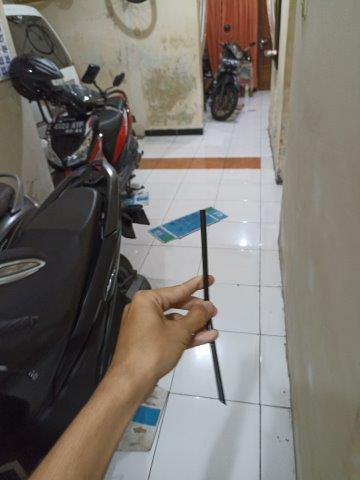sedotan: (199, 210, 226, 404)
